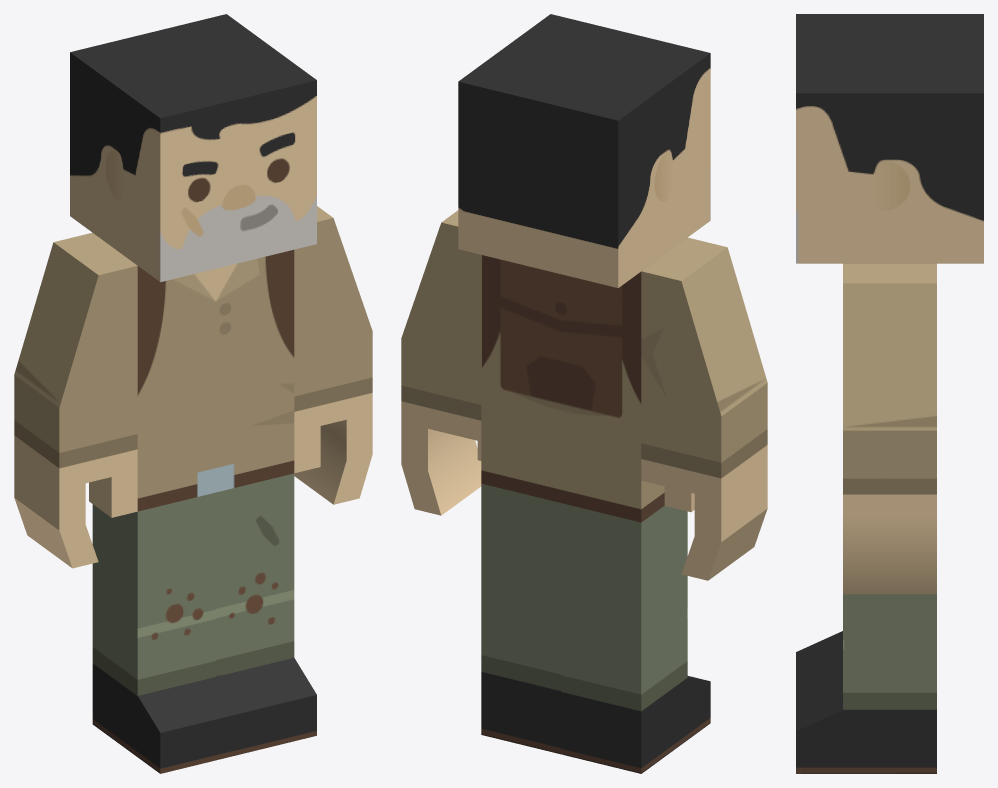
File: advanced_adventurer.glb
3 renders of one model, left to right at view 1: azimuth 30°, elevation 25°; view 2: azimuth 150°, elevation 25°; view 3: azimuth 270°, elevation 25°, orthographic. The views are drawn at different scales.
Visible parts, largest first — view 1: Head1, Body1, ArmRight1, LegRight1, LegLeft1, ArmLeft1; view 2: Head1, Body1, ArmRight1, LegRight1, LegLeft1, ArmLeft1; view 3: Head1, ArmLeft1, LegLeft1, LegRight1.
Part boxes in pixels (x1,y1,x2,y2): Head1: (70, 14, 316, 282); Body1: (137, 249, 294, 511); ArmRight1: (14, 232, 137, 568); LegRight1: (92, 492, 238, 773); LegLeft1: (216, 473, 316, 754); ArmLeft1: (294, 206, 372, 504); Head1: (458, 14, 710, 287); Body1: (481, 255, 664, 522); ArmRight1: (641, 237, 767, 580); LegRight1: (561, 503, 710, 773); LegLeft1: (481, 483, 561, 754); ArmLeft1: (401, 210, 481, 515); Head1: (796, 14, 983, 263); ArmLeft1: (843, 263, 936, 594); LegLeft1: (796, 594, 936, 773); LegRight1: (796, 631, 842, 691).
Bounding box in the file's own units: 8 × 16 × 4.
1 material, 1 textured.
